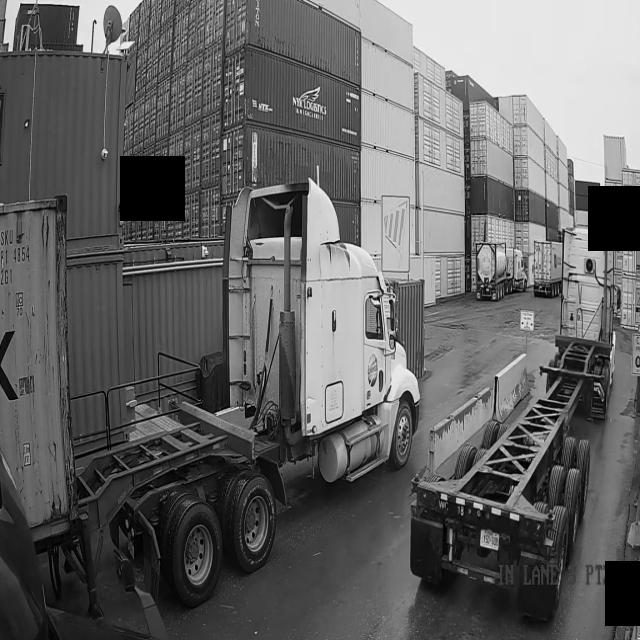container_side_no: (0, 230, 32, 292)
license_plate: (478, 527, 505, 551)
truck_with_container: (0, 179, 420, 612)
truck_without_container: (410, 228, 616, 620)
